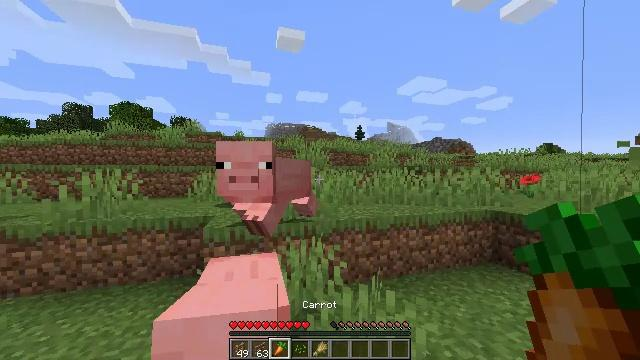pig: (151, 254, 290, 359), (216, 142, 316, 236)
